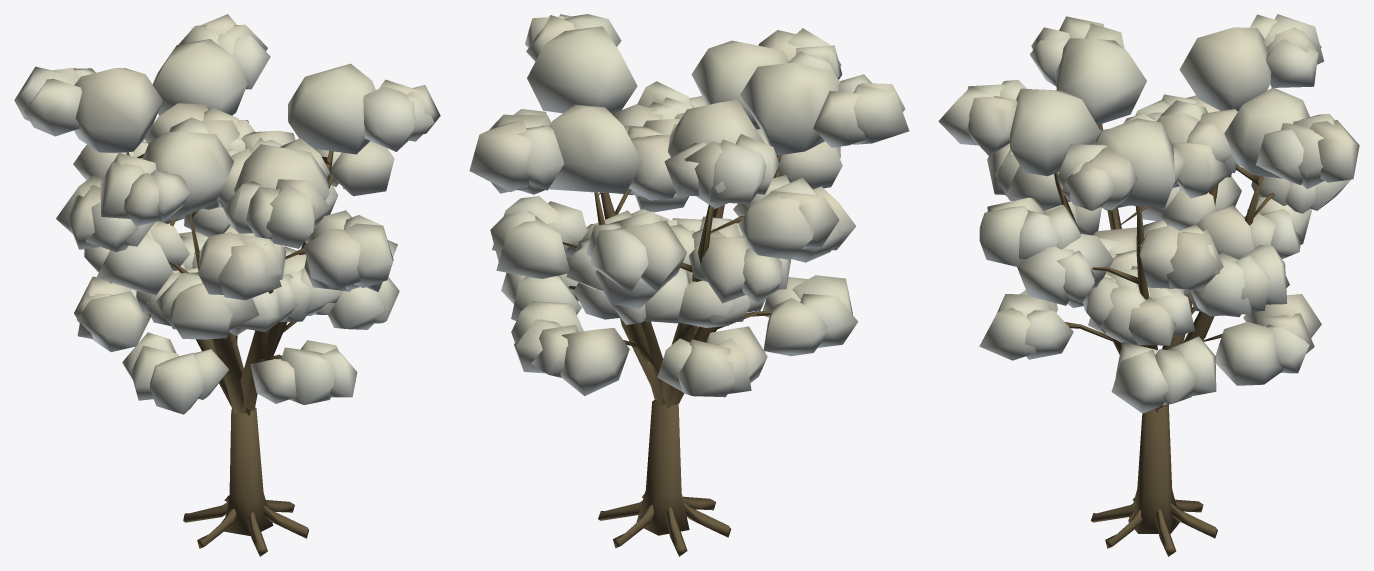
3 renders of one model, left to right at view 1: azimuth 30°, elevation 25°; view 2: azimuth 150°, elevation 25°; view 3: azimuth 270°, elevation 25°, orthographic. The views are drawn at different scales.
Visible parts, largest first — view 1: crown, trunk; view 2: crown, trunk; view 3: crown, trunk.
Boxes of the visible parts, box(x1,y1,x2,y2) form: crown: box(14, 14, 440, 414); trunk: box(126, 151, 334, 556); crown: box(469, 14, 909, 397); trunk: box(562, 155, 781, 556); crown: box(938, 14, 1359, 413); trunk: box(1054, 124, 1275, 556).
Bounding box in the file's own units: 10.93 × 13.52 × 11.25.
